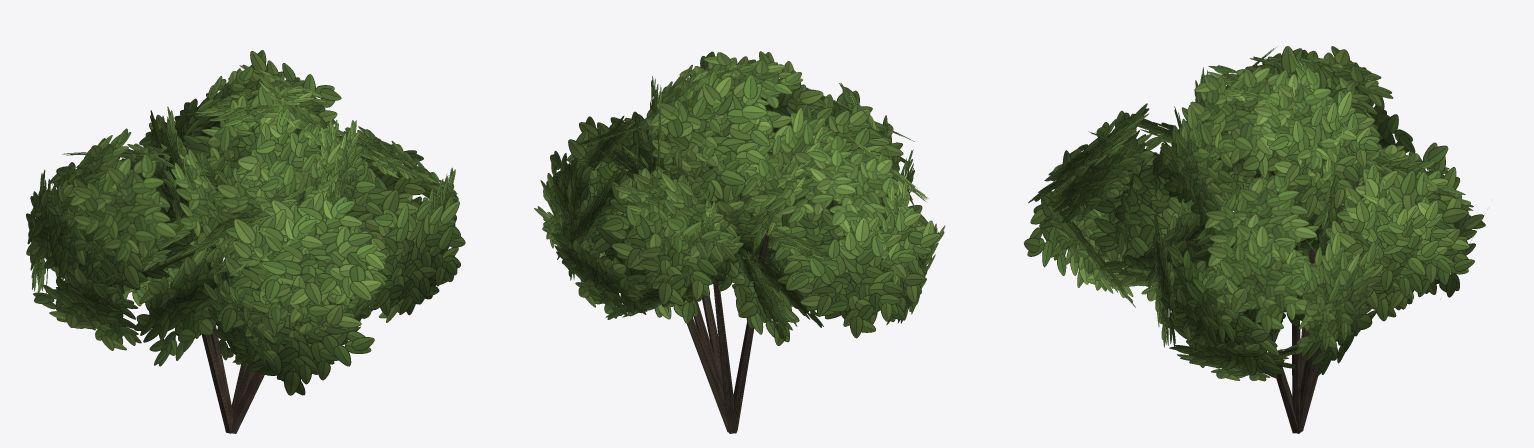
Rendered from cespuglio_2.glb.
The picture shows the model from 3 angles, left to right: view 1: azimuth 30°, elevation 25°; view 2: azimuth 150°, elevation 25°; view 3: azimuth 270°, elevation 25°; orthographic projection. The views are drawn at different scales.
Visible parts, largest first — view 1: cespuglio_2; view 2: cespuglio_2; view 3: cespuglio_2.
Boxes of the visible parts, left/top/right/bottom form: cespuglio_2: left=26, top=50, right=465, bottom=433; cespuglio_2: left=534, top=51, right=945, bottom=433; cespuglio_2: left=1024, top=46, right=1485, bottom=433.
Size of the model in its own units: 4.45 by 3.82 by 4.36.
2 materials, 2 textured.
